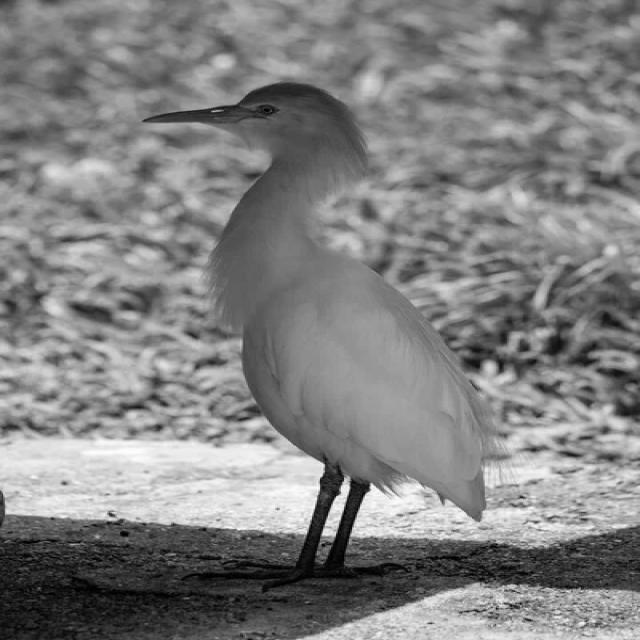Animal: (144, 82, 491, 592)
